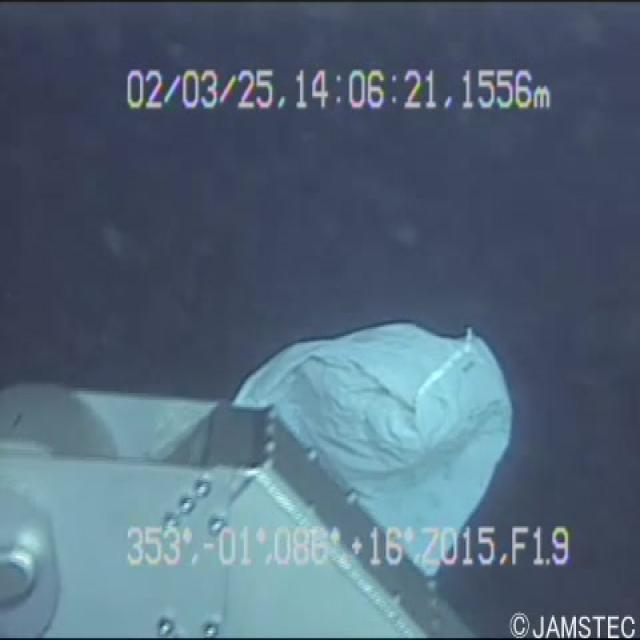plastic: (211, 274, 521, 597)
